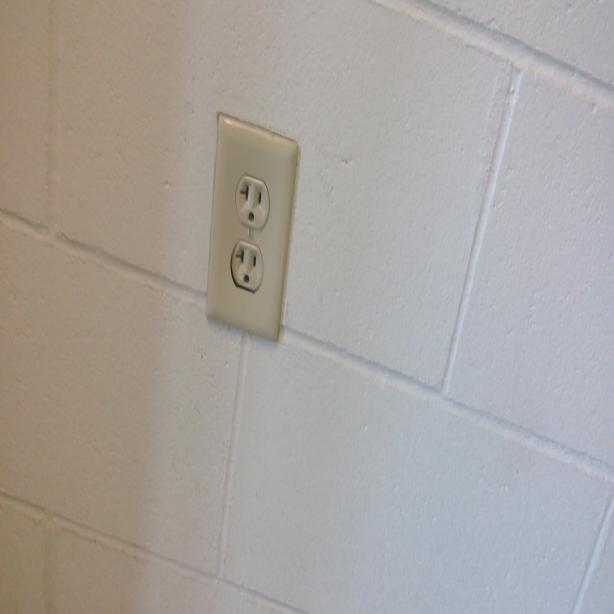typeb: (231, 240, 265, 296), (235, 176, 268, 228)
